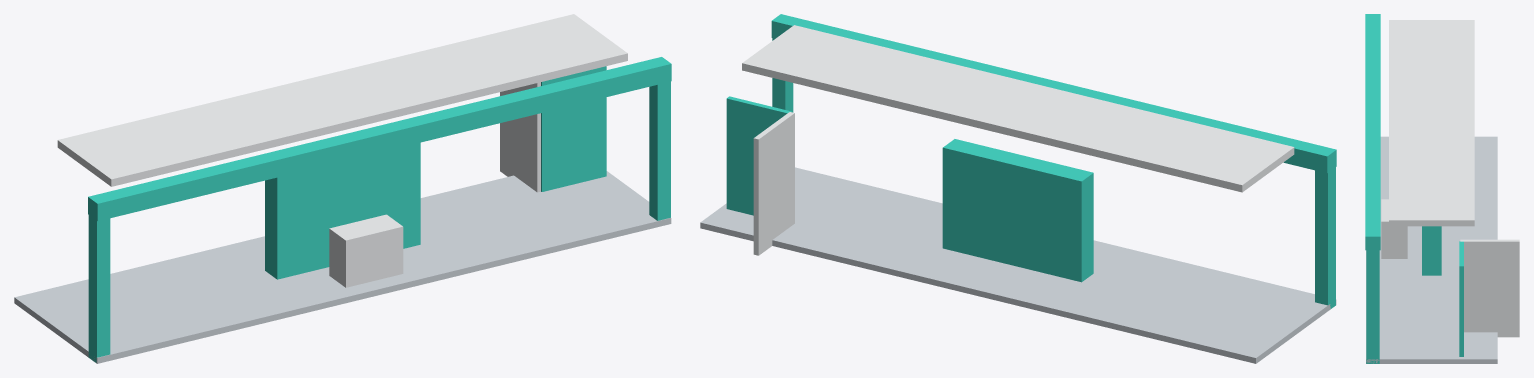
3 views of the same model, side by side, from view 1: azimuth 30°, elevation 25°; view 2: azimuth 150°, elevation 25°; view 3: azimuth 270°, elevation 25° (orthographic). The views are drawn at different scales.
Visible parts, largest first — view 1: Exhibition Booth Concept; view 2: Exhibition Booth Concept; view 3: Exhibition Booth Concept.
Boxes of the visible parts, <box> form: Exhibition Booth Concept: <box>14,14,671,363</box>; Exhibition Booth Concept: <box>700,14,1336,363</box>; Exhibition Booth Concept: <box>1365,14,1519,363</box>.
Size of the model in its own units: 12 by 3.34 by 3.52.
